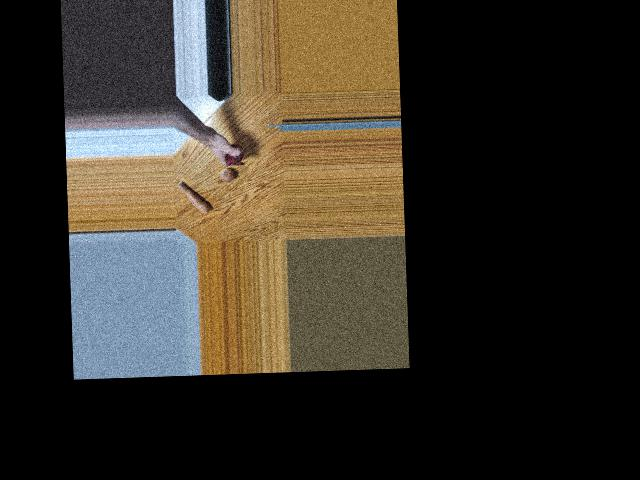onion: (214, 163, 233, 181)
